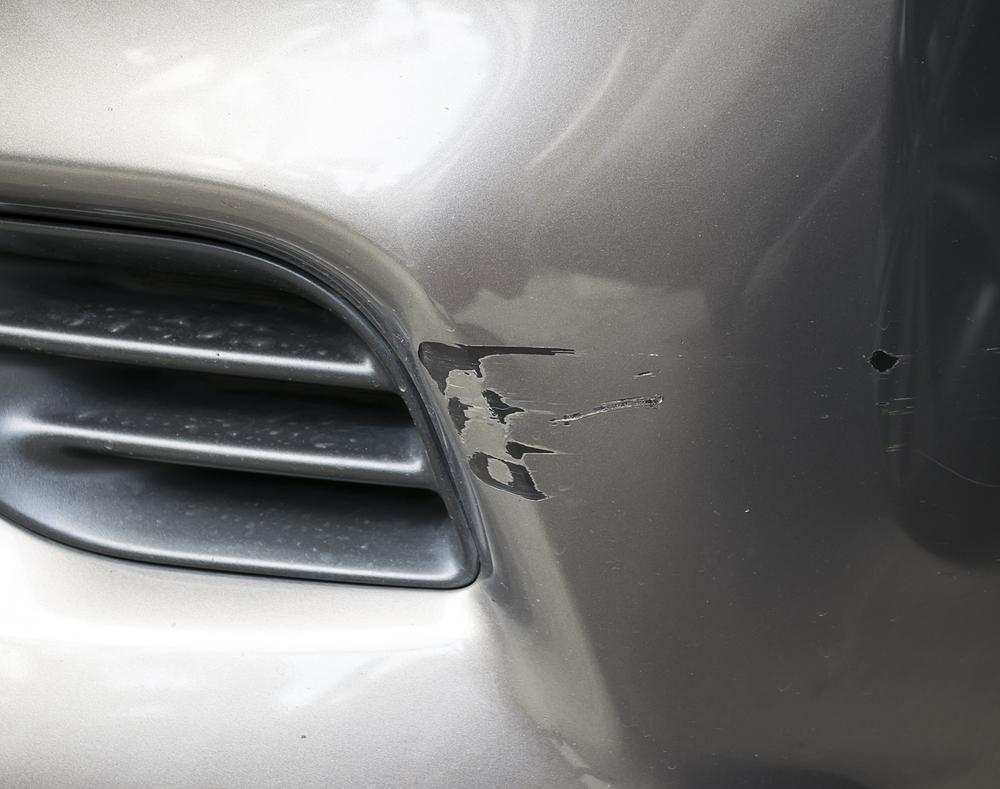scratch: (413, 335, 681, 505), (869, 339, 914, 458)
